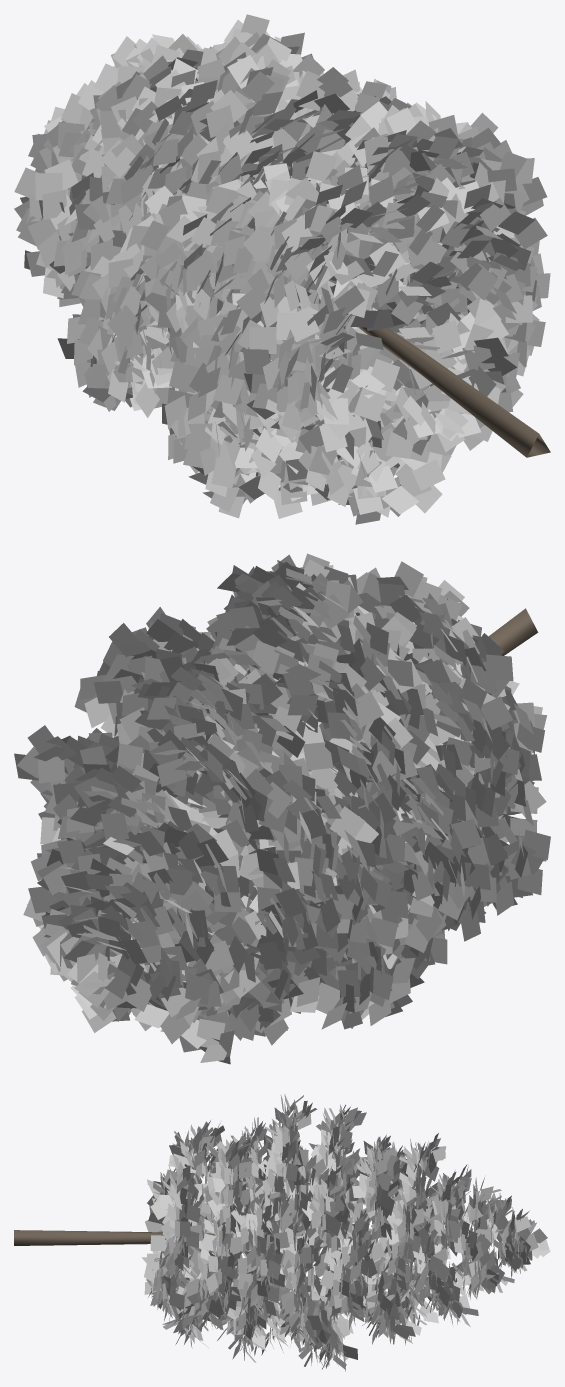
The model's file is treelowpoly.fbx.
The picture shows the model from 3 angles, top to bottom: view 1: azimuth 30°, elevation 25°; view 2: azimuth 150°, elevation 25°; view 3: azimuth 270°, elevation 25°; orthographic projection. The views are drawn at different scales.
Parts seen in each view (by area): view 1: leaves.001; view 2: leaves.001; view 3: leaves.001.
Boxes of the visible parts, x1,y1,x2,y2 form: leaves.001: (14,14,550,524); leaves.001: (14,553,550,1064); leaves.001: (14,1094,550,1371).
Size of the model in its own units: 1423 by 1346 by 2538.
